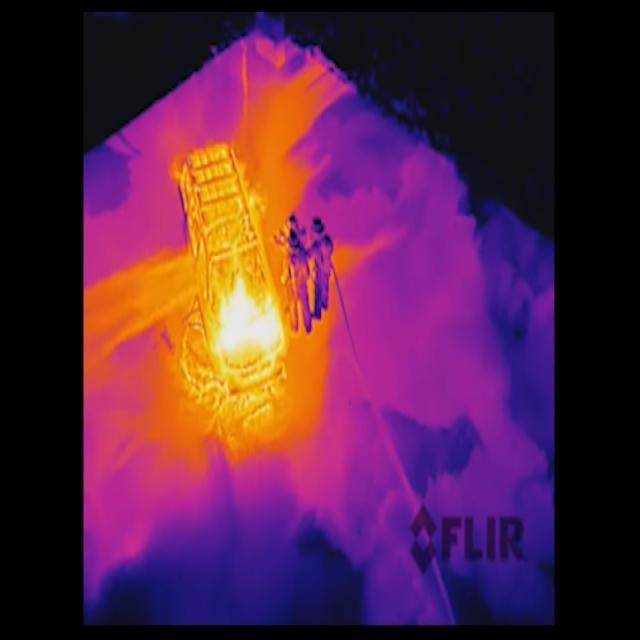fire: (218, 266, 287, 369)
